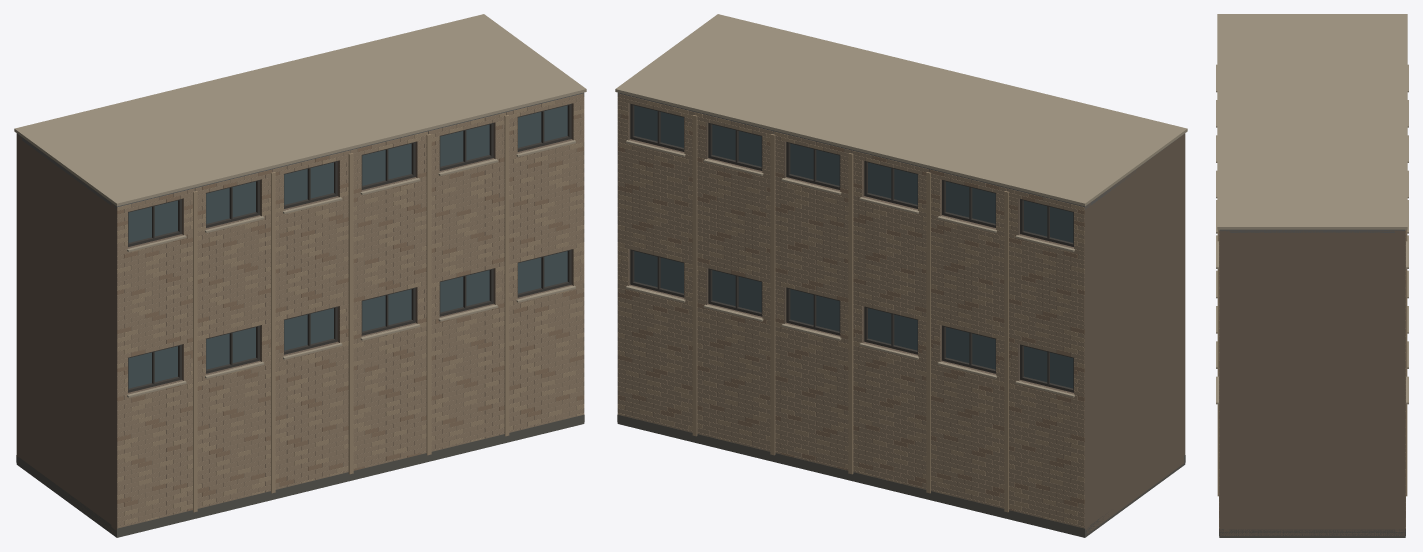
Rendered from huangpu-wing-on-skybridges-web.glb.
The picture shows the model from 3 angles, left to right: view 1: azimuth 30°, elevation 25°; view 2: azimuth 150°, elevation 25°; view 3: azimuth 270°, elevation 25°; orthographic projection. The views are drawn at different scales.
Parts seen in each view (by area): view 1: Roof / coping, Attachment interfaces, South estimated / bay 1/spandrels, South estimated / bay 6/spandrels, South estimated / bay 3/spandrels, South estimated / bay 2/spandrels, South estimated / bay 4/spandrels, South estimated / bay 5/spandrels, Deck / edge trim, South estimated / bay 4/windows, South estimated / bay 1/windows, South estimated / bay 2/windows (+23 smaller); view 2: Roof / coping, Attachment interfaces, North / bay 1/spandrels, North / bay 6/spandrels, North / bay 3/spandrels, North / bay 2/spandrels, North / bay 5/spandrels, North / bay 4/spandrels, Deck / edge trim, North / bay 4/windows, North / bay 1/windows, North / bay 2/windows (+22 smaller); view 3: Attachment interfaces, Roof / coping, North / bay 6/spandrels, South estimated / bay 6/spandrels, Suspended deck / underside, North / bay 6/reveals, South estimated / bay 6/reveals, Roof / closed slab, North / division 5, South estimated / division 5.
Part boxes in pixels (<box>): Roof / coping: <box>14,14,586,206</box>; Attachment interfaces: <box>18,140,116,534</box>; South estimated / bay 1/spandrels: <box>111,233,192,530</box>; South estimated / bay 6/spandrels: <box>509,137,584,432</box>; South estimated / bay 3/spandrels: <box>275,195,348,489</box>; South estimated / bay 2/spandrels: <box>197,214,270,508</box>; South estimated / bay 4/spandrels: <box>353,176,426,470</box>; South estimated / bay 5/spandrels: <box>431,157,504,451</box>; Deck / edge trim: <box>16,414,584,536</box>; South estimated / bay 4/windows: <box>362,143,411,331</box>; South estimated / bay 1/windows: <box>128,200,177,388</box>; South estimated / bay 2/windows: <box>206,181,255,369</box>; Roof / coping: <box>615,14,1187,206</box>; Attachment interfaces: <box>1085,134,1185,533</box>; North / bay 1/spandrels: <box>1009,233,1090,530</box>; North / bay 6/spandrels: <box>617,137,692,432</box>; North / bay 3/spandrels: <box>853,195,926,489</box>; North / bay 2/spandrels: <box>931,214,1004,508</box>; North / bay 5/spandrels: <box>697,157,770,451</box>; North / bay 4/spandrels: <box>775,176,848,470</box>; Deck / edge trim: <box>617,414,1185,536</box>; North / bay 4/windows: <box>790,143,839,331</box>; North / bay 1/windows: <box>1024,200,1073,388</box>; North / bay 2/windows: <box>946,181,995,369</box>; Attachment interfaces: <box>1219,230,1405,535</box>; Roof / coping: <box>1217,14,1407,229</box>; North / bay 6/spandrels: <box>1395,272,1405,531</box>; South estimated / bay 6/spandrels: <box>1219,272,1229,531</box>; Suspended deck / underside: <box>1219,529,1405,537</box>; North / bay 6/reveals: <box>1395,237,1405,407</box>; South estimated / bay 6/reveals: <box>1219,237,1229,407</box>; Roof / closed slab: <box>1219,229,1405,232</box>; North / division 5: <box>1406,229,1407,496</box>; South estimated / division 5: <box>1217,229,1218,496</box>.
Size of the model in its own units: 11.35 by 7.75 by 4.34.
